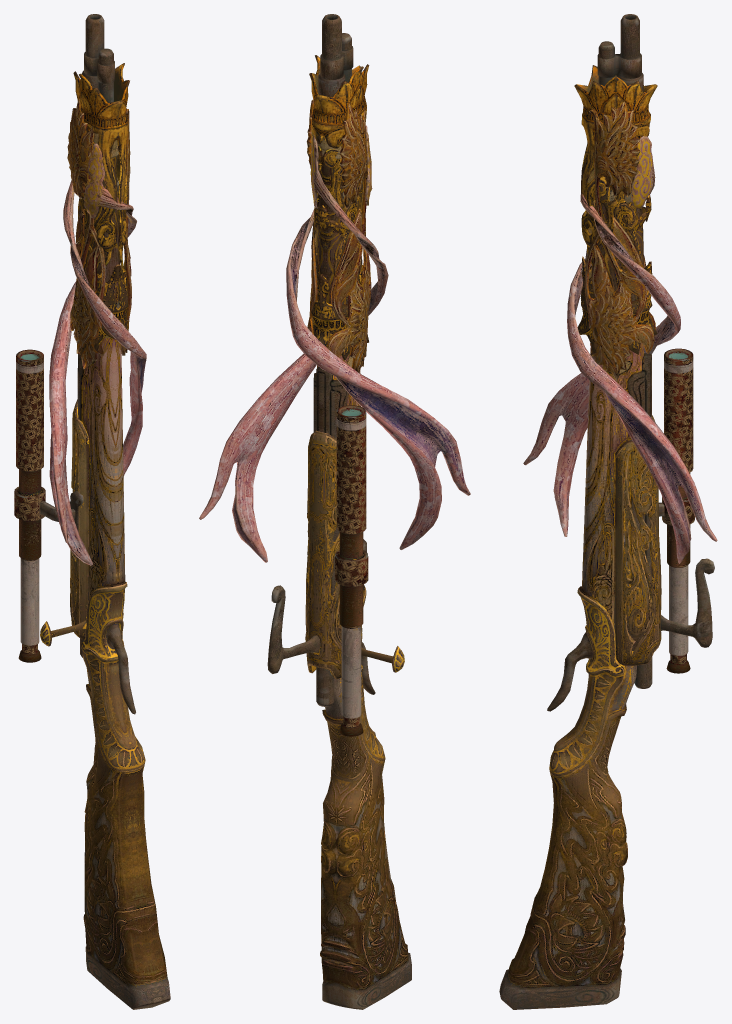
The model's file is lbg014.obj.
The picture shows the model from 3 angles, left to right: view 1: azimuth 30°, elevation 25°; view 2: azimuth 150°, elevation 25°; view 3: azimuth 270°, elevation 25°; orthographic projection. The views are drawn at different scales.
Visible parts, largest first — view 1: lbg014_000_LOD_1, lbg014_005_LOD_1, lbg014_006_LOD_1, lbg014_004_LOD_1, lbg014_008_LOD_1, lbg014_007_LOD_1, lbg014_001_LOD_1, lbg014_003_LOD_1, lbg014_002_LOD_1; view 2: lbg014_000_LOD_1, lbg014_008_LOD_1, lbg014_006_LOD_1, lbg014_005_LOD_1, lbg014_007_LOD_1, lbg014_001_LOD_1, lbg014_004_LOD_1, lbg014_002_LOD_1, lbg014_003_LOD_1; view 3: lbg014_000_LOD_1, lbg014_006_LOD_1, lbg014_001_LOD_1, lbg014_007_LOD_1, lbg014_004_LOD_1, lbg014_008_LOD_1, lbg014_005_LOD_1, lbg014_002_LOD_1, lbg014_003_LOD_1.
Boxes of the visible parts, left/top/right/bottom form: lbg014_000_LOD_1: left=73, top=335, right=170, bottom=1009; lbg014_005_LOD_1: left=14, top=349, right=83, bottom=662; lbg014_006_LOD_1: left=67, top=70, right=131, bottom=368; lbg014_004_LOD_1: left=73, top=63, right=129, bottom=351; lbg014_008_LOD_1: left=49, top=143, right=136, bottom=565; lbg014_007_LOD_1: left=63, top=180, right=146, bottom=475; lbg014_001_LOD_1: left=70, top=399, right=88, bottom=639; lbg014_003_LOD_1: left=84, top=14, right=114, bottom=102; lbg014_002_LOD_1: left=40, top=620, right=86, bottom=657; lbg014_000_LOD_1: left=313, top=347, right=411, bottom=1009; lbg014_008_LOD_1: left=286, top=125, right=470, bottom=549; lbg014_006_LOD_1: left=306, top=73, right=371, bottom=372; lbg014_005_LOD_1: left=335, top=405, right=368, bottom=736; lbg014_007_LOD_1: left=199, top=134, right=388, bottom=562; lbg014_001_LOD_1: left=305, top=430, right=341, bottom=679; lbg014_004_LOD_1: left=309, top=55, right=369, bottom=360; lbg014_002_LOD_1: left=267, top=585, right=404, bottom=706; lbg014_003_LOD_1: left=320, top=14, right=353, bottom=82; lbg014_000_LOD_1: left=499, top=334, right=651, bottom=1009; lbg014_006_LOD_1: left=584, top=73, right=655, bottom=381; lbg014_001_LOD_1: left=615, top=415, right=661, bottom=665; lbg014_007_LOD_1: left=567, top=136, right=717, bottom=563; lbg014_004_LOD_1: left=574, top=65, right=657, bottom=364; lbg014_008_LOD_1: left=523, top=193, right=680, bottom=536; lbg014_005_LOD_1: left=658, top=348, right=694, bottom=673; lbg014_002_LOD_1: left=634, top=558, right=714, bottom=688; lbg014_003_LOD_1: left=597, top=14, right=641, bottom=86.
Bounding box in the file's own units: 36.85 × 204 × 40.86.
